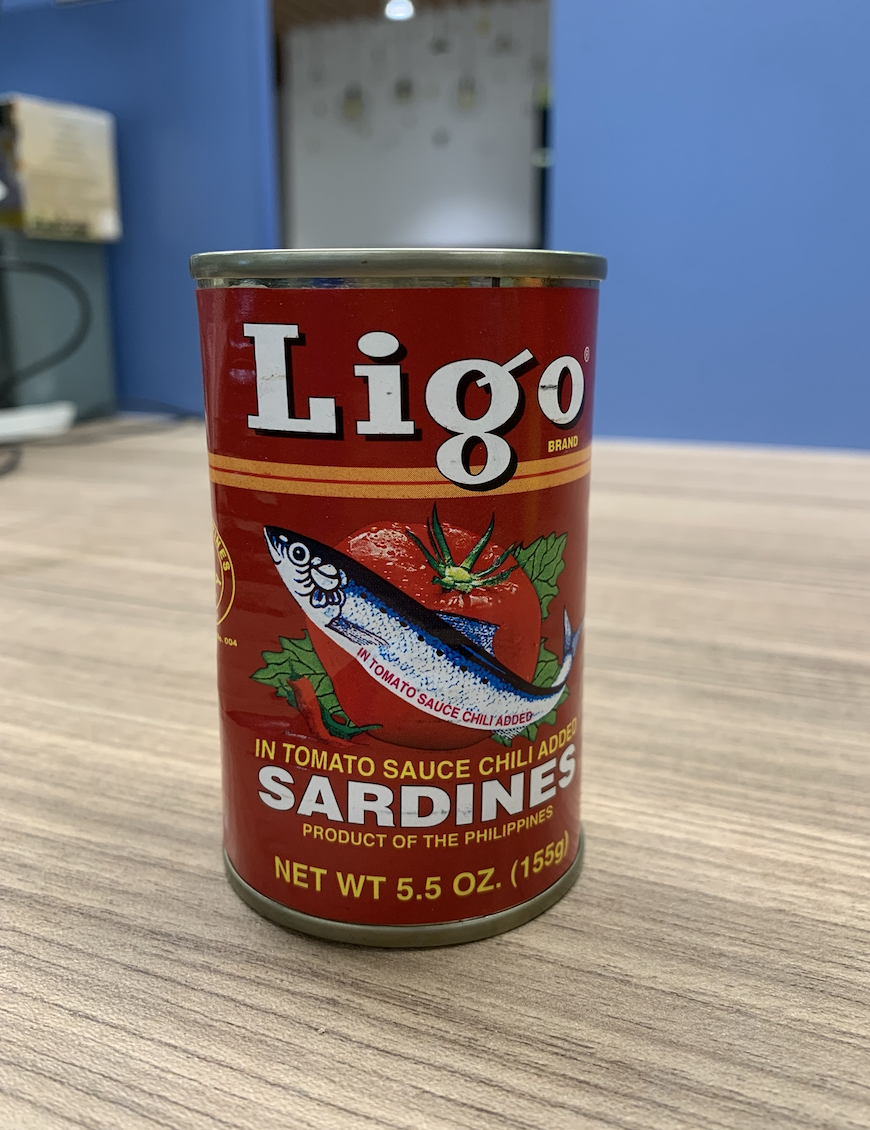sardines_100g-199g: (202, 257, 582, 894)
